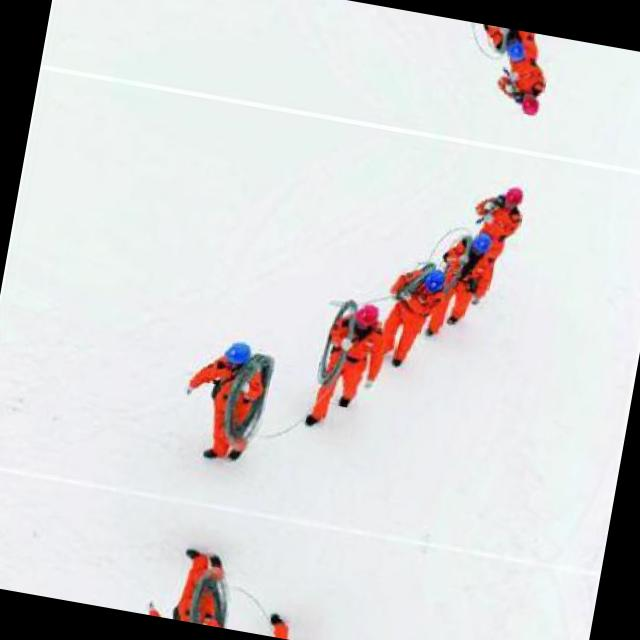helmet: (218, 330, 260, 378), (348, 295, 382, 339), (518, 88, 546, 116), (502, 182, 529, 210), (420, 266, 448, 290), (466, 230, 494, 254), (501, 36, 528, 60)
